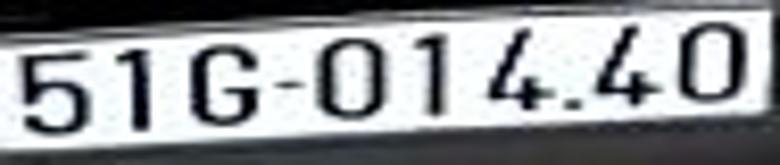-: (273, 71, 311, 96)
.: (563, 92, 584, 116)
0: (312, 34, 389, 122), (679, 16, 748, 109)
1: (412, 32, 453, 120), (116, 47, 153, 133)
4: (487, 29, 554, 116), (595, 26, 663, 110)
5: (20, 47, 94, 140)
G: (186, 45, 264, 133)
